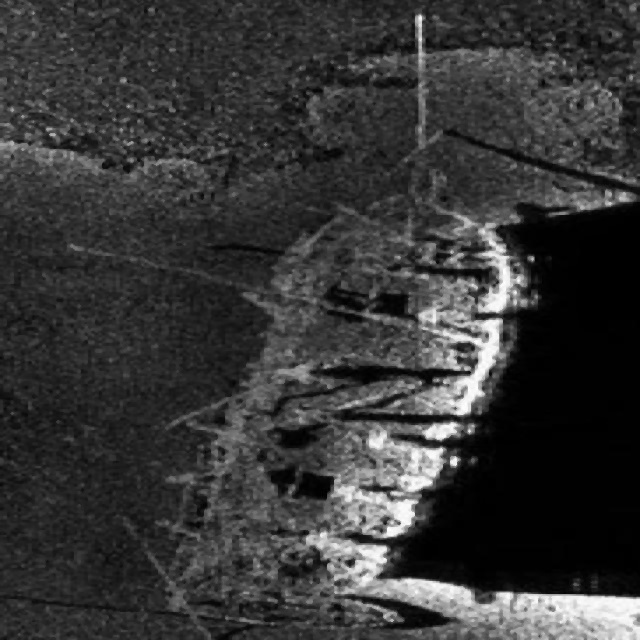Ship: (44, 154, 547, 637)
